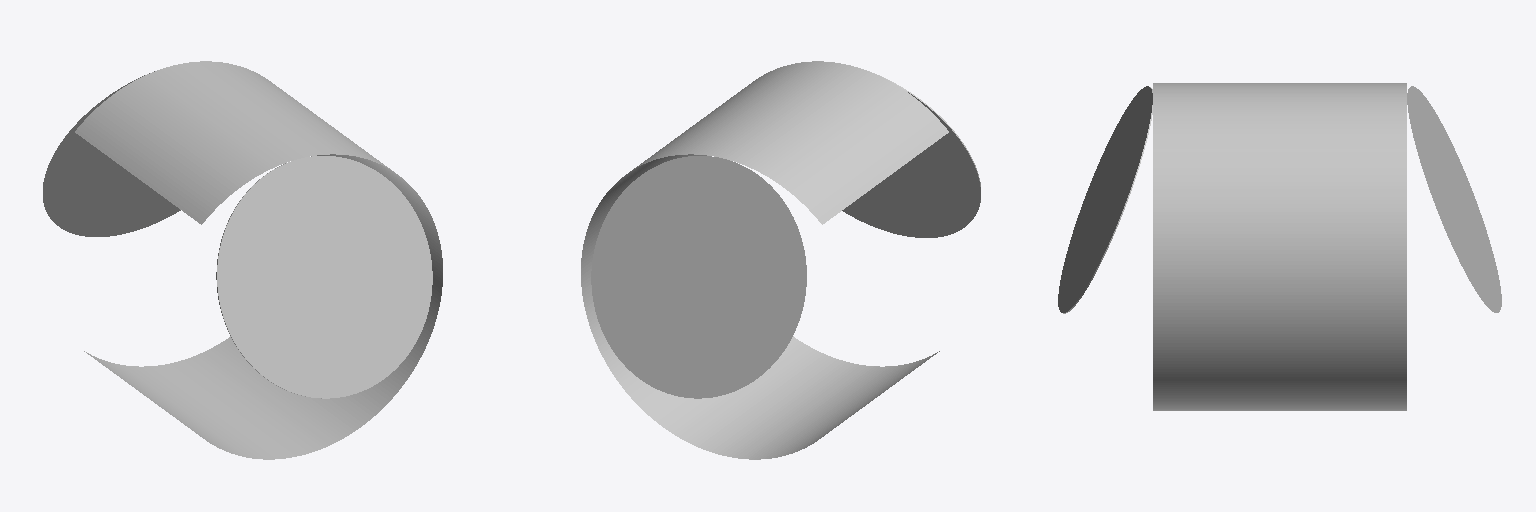
File: plane bend67.obj
3 views of the same model, side by side, from view 1: azimuth 30°, elevation 25°; view 2: azimuth 150°, elevation 25°; view 3: azimuth 270°, elevation 25° (orthographic).
Visible parts, largest first — view 1: Plane, Circle, Circle.001; view 2: Plane, Circle.001, Circle; view 3: Plane, Circle, Circle.001.
Part boxes in pixels (left/top/right/bottom): Plane: left=75, top=61, right=442, bottom=459; Circle: left=216, top=156, right=432, bottom=398; Circle.001: left=43, top=71, right=180, bottom=236; Plane: left=581, top=61, right=948, bottom=459; Circle.001: left=591, top=156, right=806, bottom=398; Circle: left=842, top=71, right=980, bottom=237; Plane: left=1153, top=83, right=1406, bottom=410; Circle: left=1058, top=86, right=1152, bottom=313; Circle.001: left=1407, top=86, right=1501, bottom=312.
Bounding box in the file's own units: 2.24 × 2.58 × 3.49.